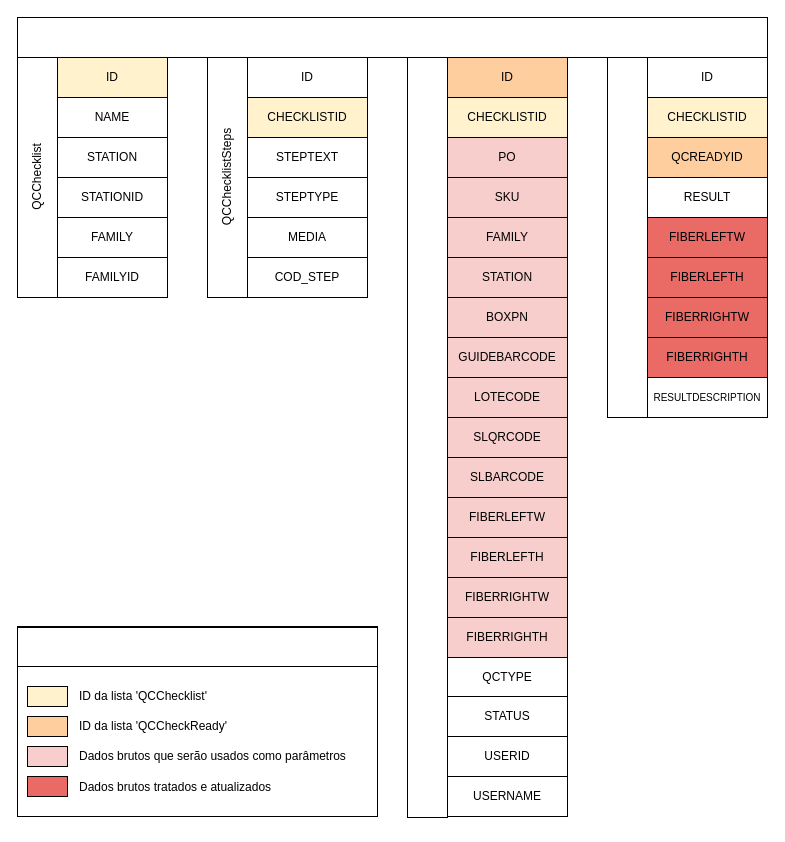
The diagram is 785 pixels wide and 842 high, and some of its shapes have lost their labels. Each missing label, with the centre of its shape:
"Arquitetura das Tabelas" belongs at point 392,37.
"Legenda de Cores" belongs at point 197,646.
"QCChecklistResults" belongs at point 627,237.
"QCCheckReady" belongs at point 427,437.
